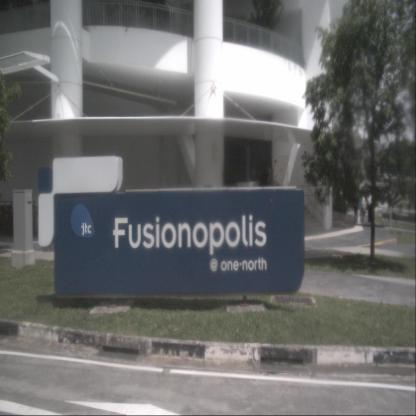human-pedestrian-adult: (366, 190, 373, 223), (359, 192, 366, 224), (353, 192, 359, 224)
